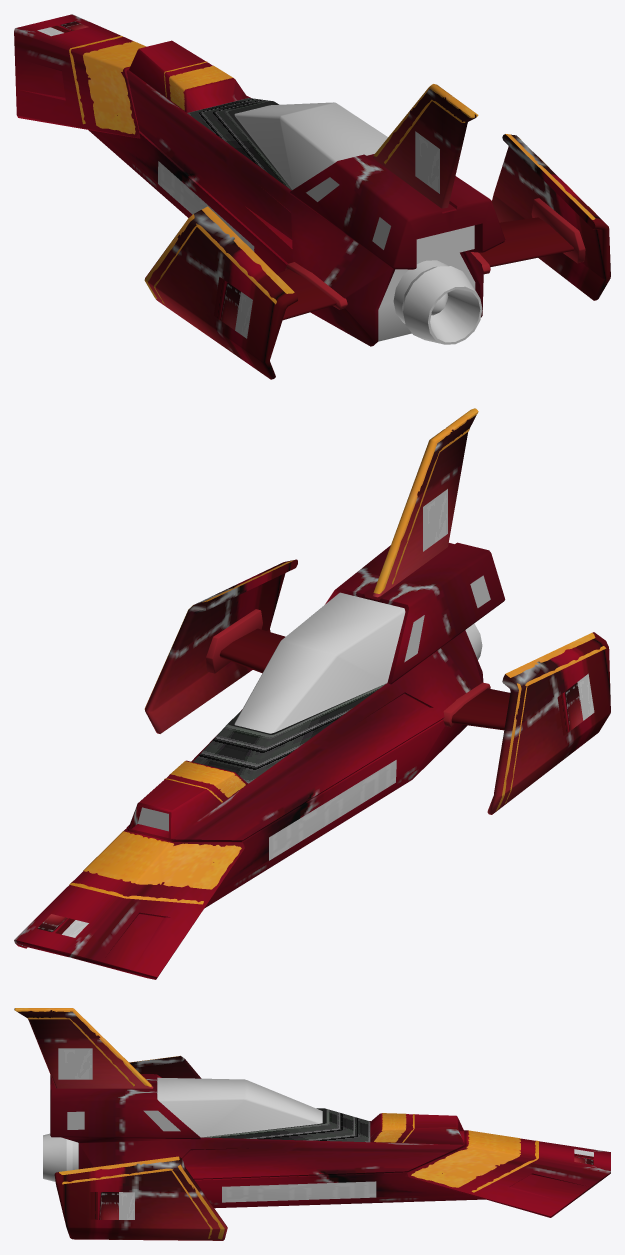
3 renders of one model, top to bottom at view 1: azimuth 30°, elevation 25°; view 2: azimuth 150°, elevation 25°; view 3: azimuth 270°, elevation 25°, orthographic. The views are drawn at different scales.
Parts seen in each view (by area): view 1: 01_redgazelle_a; view 2: 01_redgazelle_a; view 3: 01_redgazelle_a.
Part boxes in pixels (x1,y1,x2,y2): 01_redgazelle_a: (14,14,610,379); 01_redgazelle_a: (14,408,610,979); 01_redgazelle_a: (14,1008,610,1240).
Bounding box in the file's own units: 1.24 × 0.9108 × 2.61.
